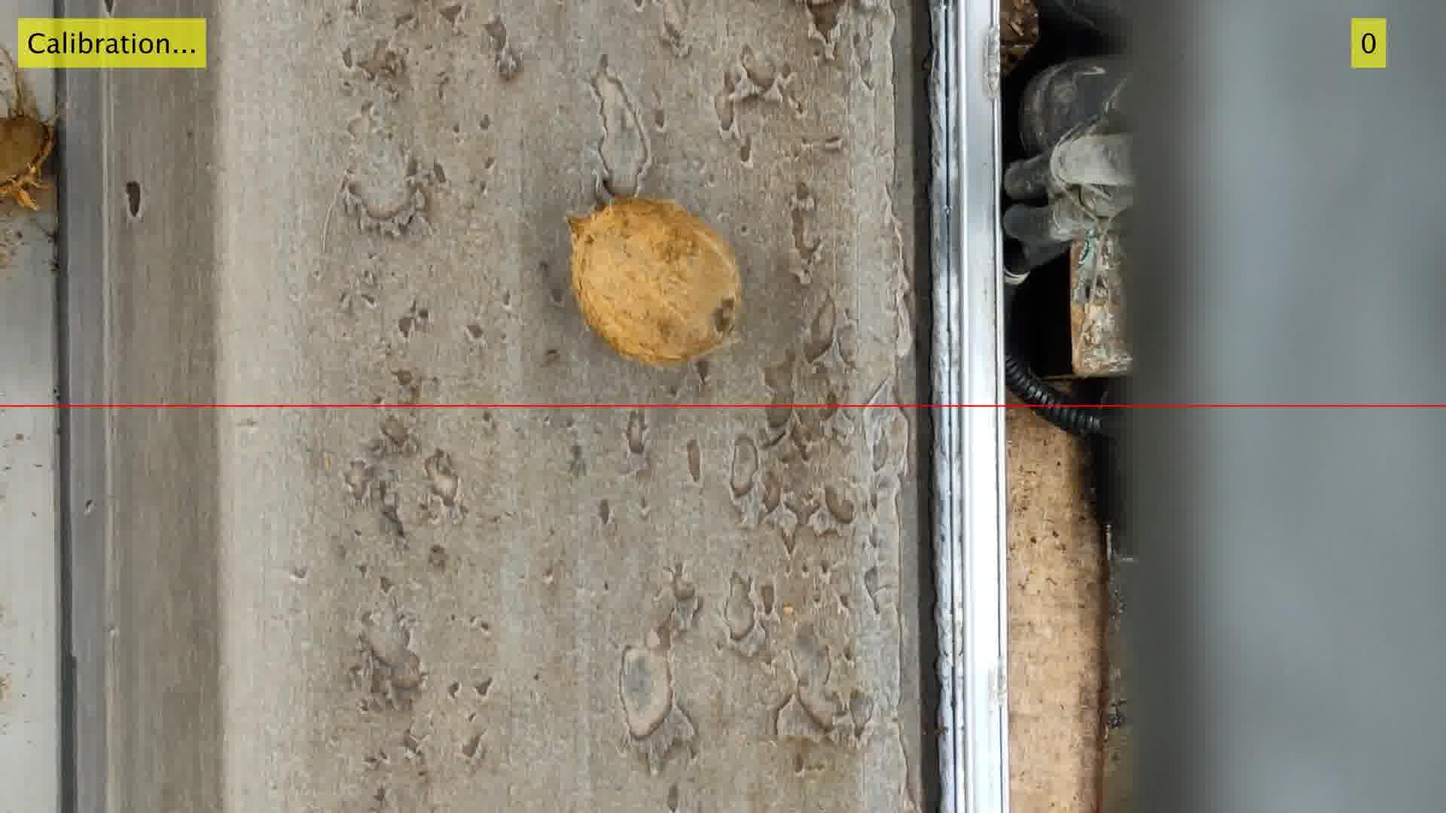Coconut: (548, 184, 749, 367), (0, 45, 58, 210)
